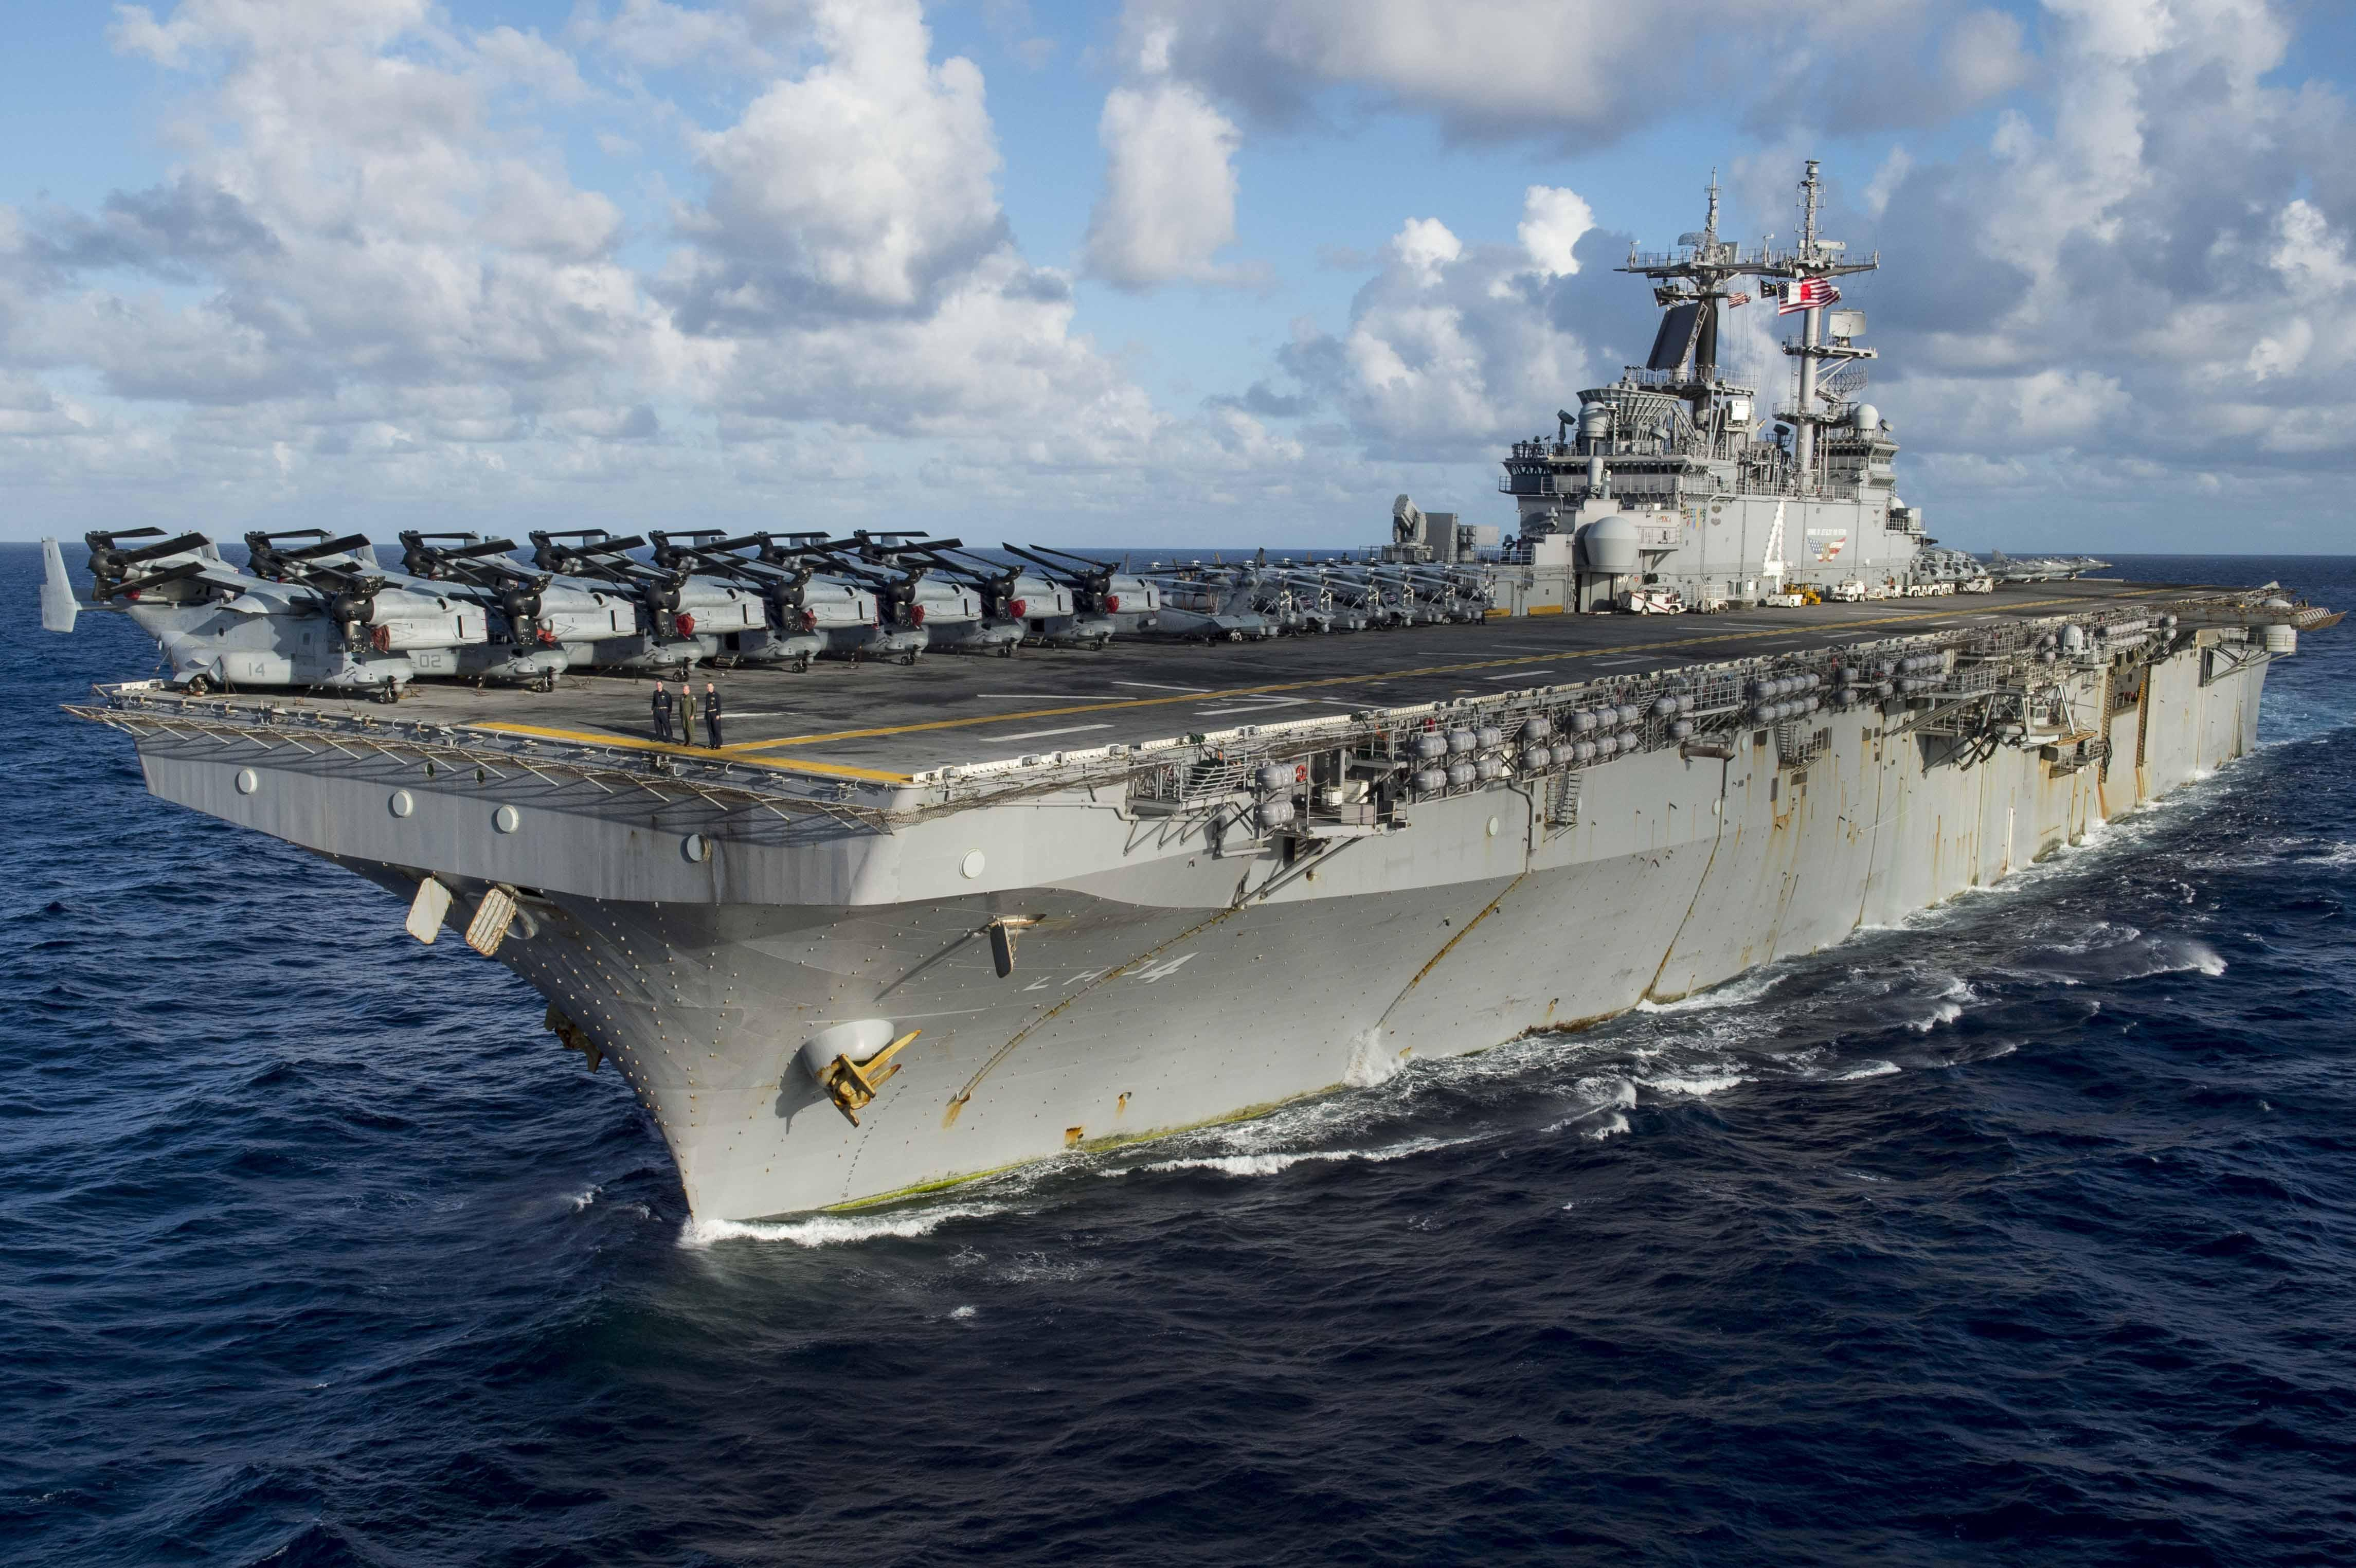rust: (793, 1020, 940, 1132), (1925, 808, 2027, 882), (1041, 1090, 1148, 1148), (1759, 780, 1792, 962), (1525, 989, 1626, 1031)
